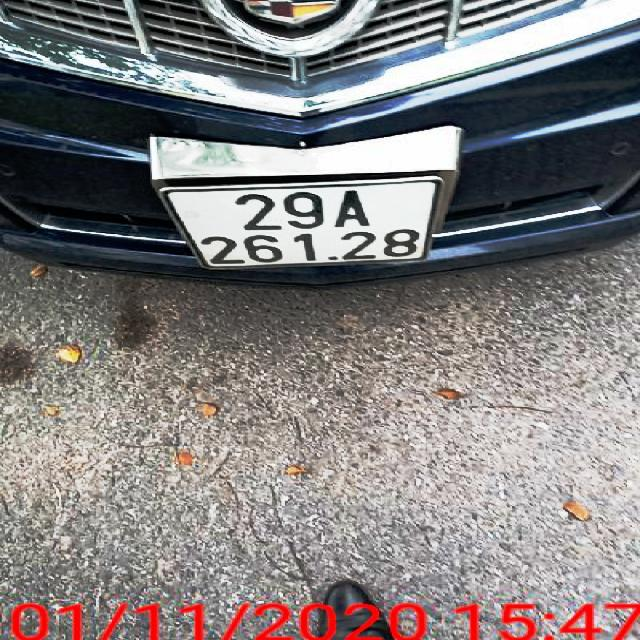license_plate: (164, 180, 440, 272)
